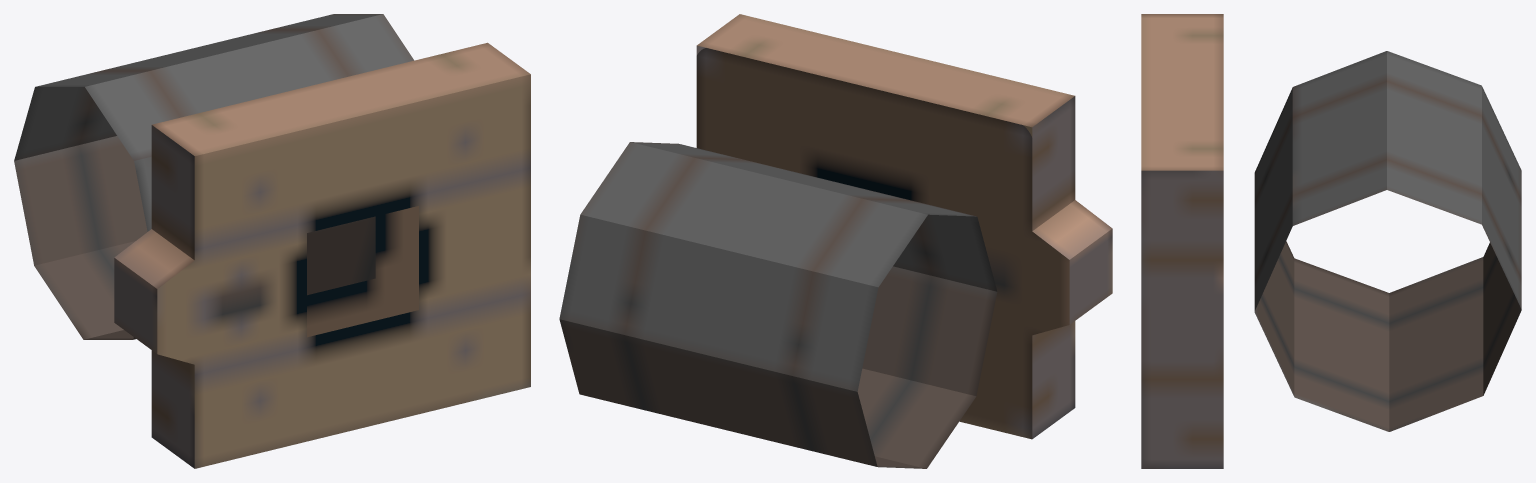
Rendered from tankgun.fbx.
3 views of the same model, side by side, from view 1: azimuth 30°, elevation 25°; view 2: azimuth 150°, elevation 25°; view 3: azimuth 270°, elevation 25° (orthographic). The views are drawn at different scales.
Visible parts, largest first — view 1: cuboid, cylinder; view 2: cylinder, cuboid; view 3: cylinder, cuboid.
Boxes of the visible parts, x1,y1,x2,y2 form: cuboid: [114, 42, 530, 468]; cylinder: [14, 14, 414, 339]; cylinder: [559, 142, 997, 468]; cuboid: [696, 14, 1112, 439]; cylinder: [1254, 51, 1521, 431]; cuboid: [1141, 14, 1223, 468].
Bounding box in the file's own units: 125 × 100 × 116.
1 material, 1 textured.
